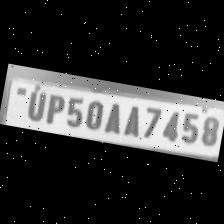0: (80, 94, 106, 130)
4: (156, 105, 183, 142)
5: (175, 107, 201, 144), (60, 91, 85, 127)
7: (135, 100, 162, 139)
8: (196, 111, 222, 146)
A: (101, 96, 126, 134), (118, 98, 143, 136)
P: (40, 88, 66, 125)
U: (20, 84, 46, 120)
